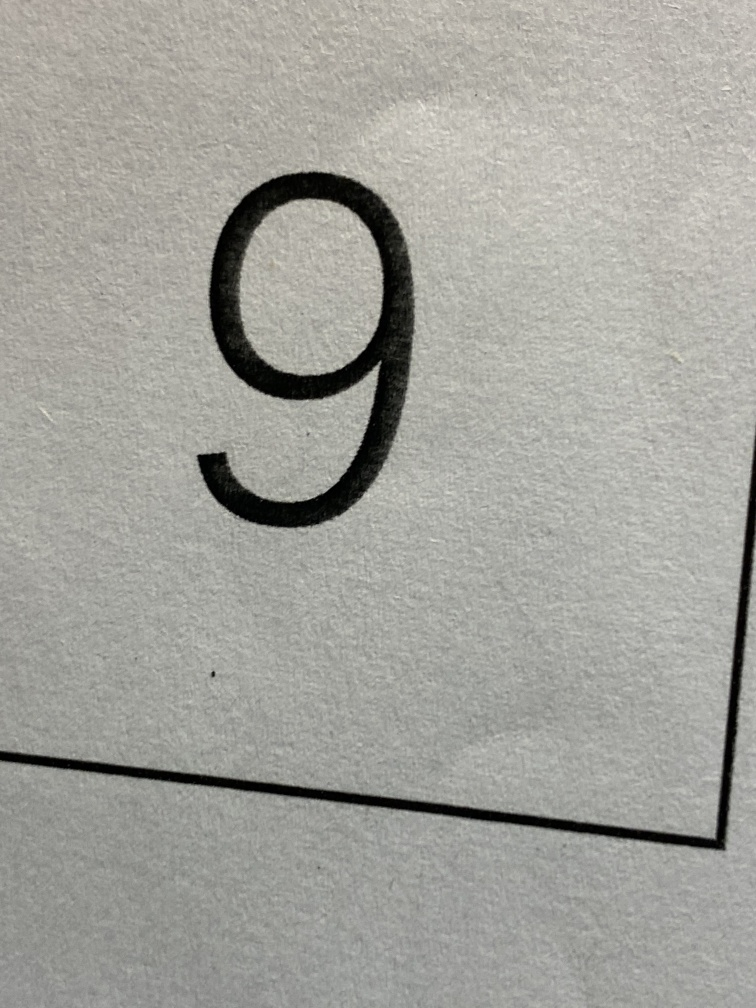nine: (120, 99, 487, 623)
